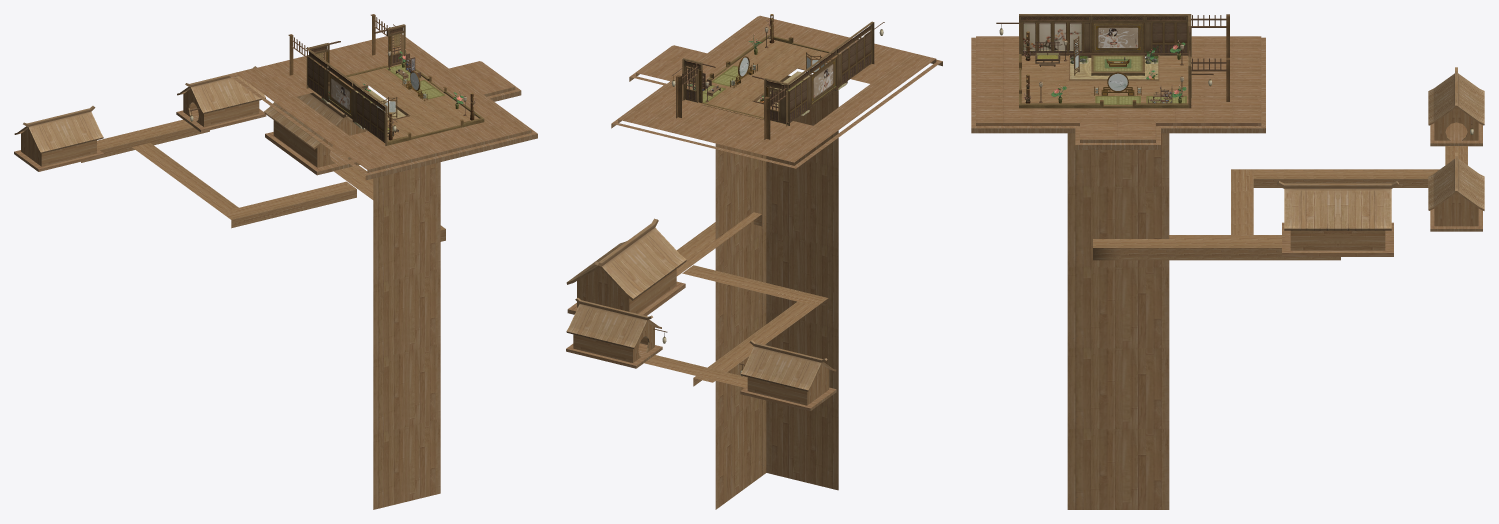
File: M1_home1.FBX
The picture shows the model from 3 angles, left to right: view 1: azimuth 30°, elevation 25°; view 2: azimuth 150°, elevation 25°; view 3: azimuth 270°, elevation 25°; orthographic projection. The views are drawn at different scales.
Visible parts, largest first — view 1: M1_home2, M1_home1, M1_house2, M1_house1, M1_B_diban2; view 2: M1_home2, M1_home1, M1_house2, M1_house1, M1_B_diban2; view 3: M1_home2, M1_home1, M1_house1, M1_house2, M1_B_diban2.
Boxes of the visible parts, left/top/right/bottom form: M1_home2: left=373, top=105, right=440, bottom=509; M1_home1: left=235, top=14, right=531, bottom=172; M1_house2: left=14, top=66, right=356, bottom=228; M1_house1: left=264, top=92, right=445, bottom=241; M1_B_diban2: left=229, top=35, right=537, bottom=180; M1_home2: left=715, top=75, right=838, bottom=509; M1_home1: left=611, top=14, right=936, bottom=162; M1_house2: left=566, top=265, right=836, bottom=411; M1_house1: left=566, top=212, right=761, bottom=315; M1_B_diban2: left=612, top=16, right=942, bottom=168; M1_home2: left=1067, top=133, right=1169, bottom=509; M1_home1: left=976, top=14, right=1265, bottom=142; M1_house1: left=1093, top=181, right=1398, bottom=260; M1_house2: left=1231, top=67, right=1484, bottom=234; M1_B_diban2: left=971, top=37, right=1265, bottom=149.
Bounding box in the file's own units: 4106 × 5160 × 5279.
